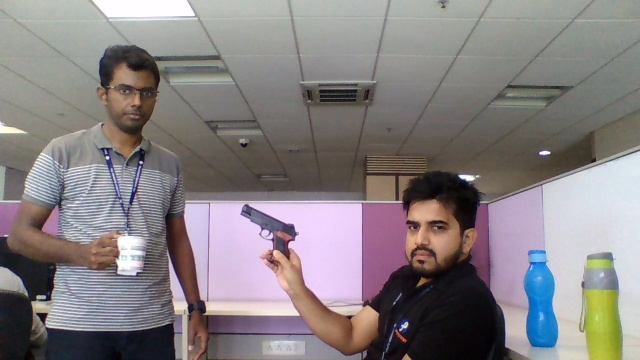gun: (238, 200, 300, 251)
